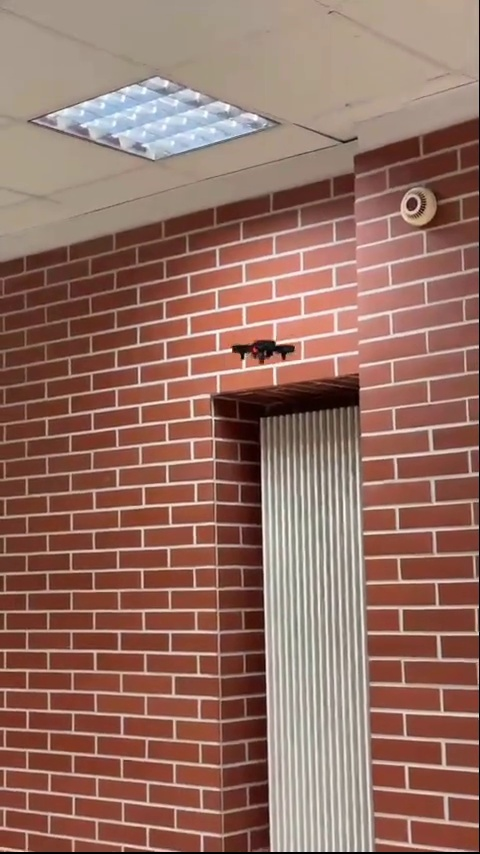drone: (230, 342, 303, 361)
